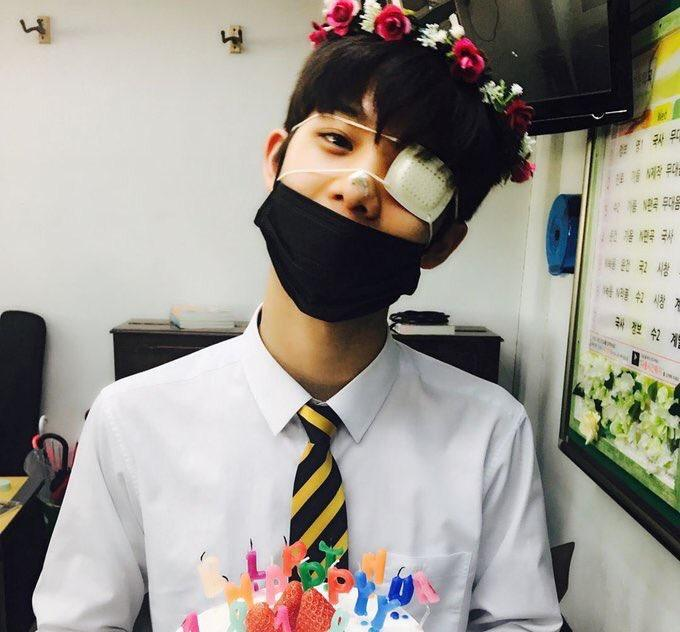WRONG: (262, 107, 463, 314)
